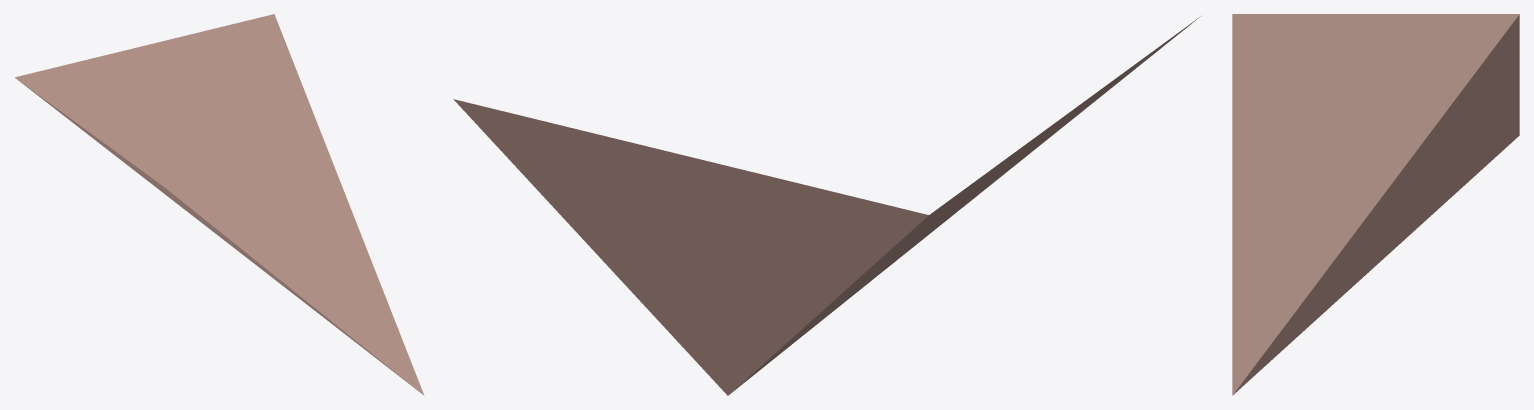
File: roof_interiorCorner_mesh.fbx
3 renders of one model, left to right at view 1: azimuth 30°, elevation 25°; view 2: azimuth 150°, elevation 25°; view 3: azimuth 270°, elevation 25°, orthographic. The views are drawn at different scales.
Visible parts, largest first — view 1: roof_interiorCorner_mesh; view 2: roof_interiorCorner_mesh; view 3: roof_interiorCorner_mesh.
Boxes of the visible parts, x1,y1,x2,y2 form: roof_interiorCorner_mesh: [15, 14, 424, 395]; roof_interiorCorner_mesh: [453, 16, 1200, 395]; roof_interiorCorner_mesh: [1232, 14, 1519, 395].
Size of the model in its own units: 1 by 1 by 1.
